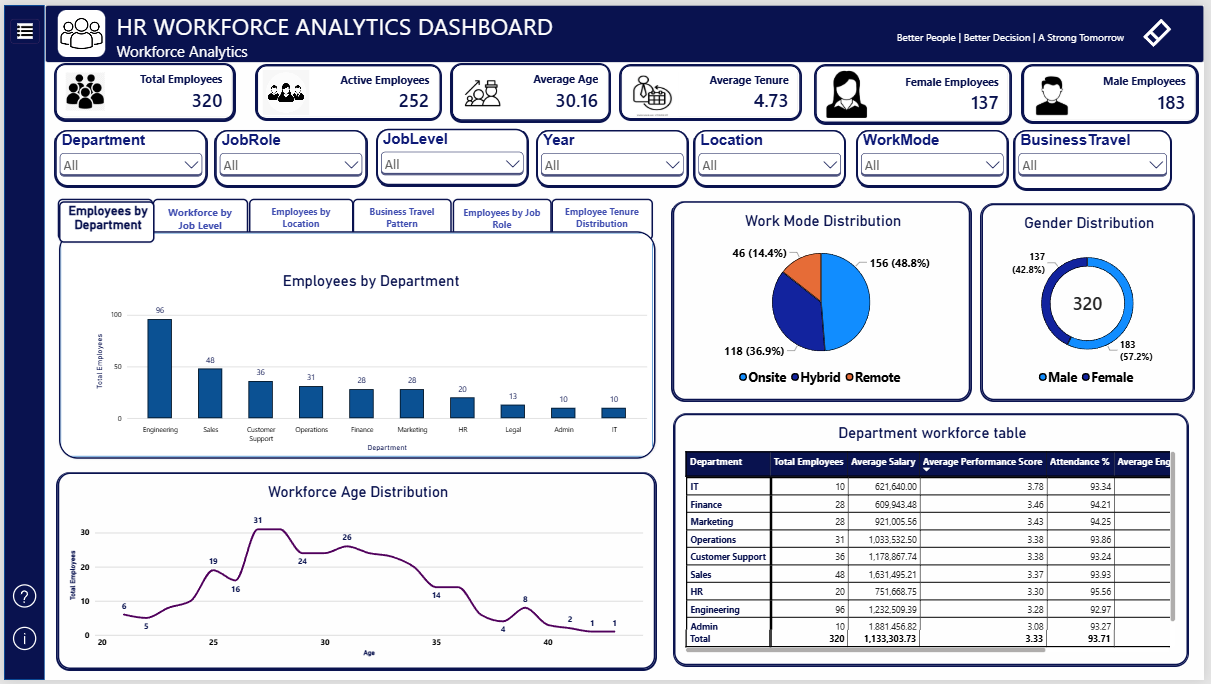

Layout of this report page (visuals, bound fields, positions):
{"tool":"powerbi","page":{"name":"Workforce Analytics","canvas":[1920,1080],"ordinal":1},"visuals":[{"type":"shape","title":"side corner layout","box":[0,0,65,1080],"z":0,"group":"g22"},{"type":"actionButton","title":"top nav bar","box":[66,0,1854,92],"z":0,"group":"g21"},{"type":"group","id":"g1","title":"tot emp","box":[82,94,286.9,89.3],"z":0,"group":"g2"},{"type":"group","id":"g2","title":"Group 2","box":[82,94,1828.5,95.3],"z":0,"group":"g19"},{"type":"cardVisual","fields":{"Data":["Measures (2).Total Employees"]},"box":[82,94,286.5,89.3],"z":0,"group":"g1"},{"type":"group","id":"g3","title":"Group 1","box":[716.7,94,253.9,91.3],"z":0,"group":"g10"},{"type":"cardVisual","fields":{"Data":["Measures (2).Average Age"]},"box":[716.7,94,253.9,91.3],"z":0,"group":"g3"},{"type":"group","id":"g4","title":"Group 1","box":[404.5,96,295.1,87.5],"z":0,"group":"g14"},{"type":"cardVisual","fields":{"Data":["Measures (2).Active Employees"]},"box":[404.5,96,295.1,87.5],"z":0,"group":"g4"},{"type":"cardVisual","fields":{"Data":["Measures (2).Female Employees"]},"box":[1298.2,96,312.6,93],"z":0,"group":"g5"},{"type":"group","id":"g5","title":"Group 1","box":[1298.2,96,312.6,93],"z":0,"group":"g12"},{"type":"group","id":"g6","title":"Group 1","box":[1630.5,96.3,279,91.8],"z":0,"group":"g7"},{"type":"cardVisual","fields":{"Data":["Measures (2).Male Employees"]},"box":[1630.5,96.3,279,91.8],"z":0,"group":"g6"},{"type":"group","id":"g7","title":"avg salary","box":[1630.5,96.3,280,93],"z":0,"group":"g16"},{"type":"group","id":"g8","title":"Group 1","box":[986.5,96.4,288.5,87.6],"z":0,"group":"g15"},{"type":"cardVisual","fields":{"Data":["Measures (2).Average Tenure"]},"box":[986.5,96.4,288.5,87.6],"z":0,"group":"g8"},{"type":"slicer","fields":{"Values":["DimEmployee.BusinessTravel"]},"box":[1617,200.9,252.4,95],"z":0,"group":"g20"},{"type":"group","id":"g9","title":"inactive button","box":[86,310,952.9,67.1],"z":0,"group":"g18"},{"type":"actionButton","box":[876,310,162.5,66.2],"z":0,"group":"g9"},{"type":"donutChart","title":"Gender Distribution","fields":{"Category":["DimEmployee.Gender"],"Y":["Measures (2).Total Employees"]},"box":[1564,318,340,314],"z":0,"group":"g17"},{"type":"shape","box":[88.1,361.5,954,364],"z":0,"group":"g11"},{"type":"image","title":"people icon","box":[85,7.5,76,75],"z":1000,"group":"g21"},{"type":"group","id":"g10","title":"tot hires","box":[716.7,94,253.9,91.3],"z":1000,"group":"g2"},{"type":"image","box":[1310.9,101.5,77.6,82.7],"z":1000,"group":"g12"},{"type":"image","box":[414.4,103.7,74.8,71.7],"z":1000,"group":"g14"},{"type":"image","box":[726.6,105,80.4,70.6],"z":1000,"group":"g10"},{"type":"image","box":[82,108.2,96.1,60.9],"z":1000,"group":"g1"},{"type":"image","box":[997.4,109,83.2,70.6],"z":1000,"group":"g15"},{"type":"slicer","fields":{"Values":["DimEmployee.JobLevel"]},"box":[596.2,198,242.7,90],"z":1000,"group":"g20"},{"type":"actionButton","box":[717.2,310,158.8,66.2],"z":1000,"group":"g9"},{"type":"group","id":"g11","title":"active button","box":[88.1,313.5,952.9,411.4],"z":1000,"group":"g18"},{"type":"pivotTable","title":"Department workforce table","fields":{"Rows":["DimEmployee.Department"],"Values":["Measures (2).Total Employees","Measures (2).Average Salary","Measures (2).Average Performance Score","Measures (2).Attendance %","Measures (2).Average Engagement Score","Measures (2).Attrition Rate"]},"box":[1072,654,822,402],"z":1000,"group":"g17"},{"type":"actionButton","title":"info","box":[7.5,985,50,50],"z":1000,"group":"g22"},{"type":"actionButton","title":"clear slicer","box":[1794,12,102,66],"z":1500,"group":"g21"},{"type":"textbox","box":[180,7.5,1220,85],"z":2000,"group":"g21"},{"type":"group","id":"g12","title":"attrition rate","box":[1298.2,96,312.6,93],"z":2000,"group":"g2"},{"type":"slicer","fields":{"Values":["DimEmployee.Location"]},"box":[1103.7,200.9,242.7,90],"z":2000,"group":"g20"},{"type":"actionButton","box":[558.5,310,158.8,66.2],"z":2000,"group":"g9"},{"type":"pieChart","title":"Work Mode Distribution","fields":{"Category":["DimEmployee.WorkMode"],"Y":["Measures (2).Total Employees"]},"box":[1070,314,476,318],"z":2000,"group":"g17"},{"type":"group","id":"g13","title":"chart","box":[94.1,371.2,953.7,357.2],"z":2000,"group":"g18"},{"type":"actionButton","title":"help","box":[7.5,917.5,50,50],"z":2000,"group":"g22"},{"type":"textbox","box":[1306,22,486,62],"z":2500,"group":"g21"},{"type":"actionButton","title":"menu Button","box":[10,22.5,47.5,40],"z":3000,"group":"g22"},{"type":"group","id":"g14","title":"active emp","box":[404.5,96,295.1,87.5],"z":3000,"group":"g2"},{"type":"slicer","fields":{"Values":["DimEmployee.WorkMode"]},"box":[1363,199.4,242.7,90],"z":3000,"group":"g20"},{"type":"actionButton","box":[391,310,167.5,66.2],"z":3000,"group":"g9"},{"type":"lineChart","title":"Workforce Age Distribution","fields":{"Category":["DimEmployee.Age"],"Y":["Measures (2).Total Employees"]},"box":[86,748,956,314],"z":3000,"group":"g17"},{"type":"group","id":"g15","title":"tot exits","box":[986.5,96.4,288.5,87.6],"z":4000,"group":"g2"},{"type":"slicer","fields":{"Values":["DimEmployee.Department"]},"box":[82,200.2,242.7,90],"z":4000,"group":"g20"},{"type":"actionButton","box":[238.5,310,152.5,66.2],"z":4000,"group":"g9"},{"type":"group","id":"g16","title":"avg sal","box":[1630.5,96.3,280,93],"z":5000,"group":"g2"},{"type":"slicer","fields":{"Values":["DimEmployee.JobRole"]},"box":[338.3,199.4,242.7,90],"z":5000,"group":"g20"},{"type":"actionButton","box":[86,310,152.5,66.2],"z":5000,"group":"g9"},{"type":"group","id":"g17","title":"Group 5","box":[86,314,1818,748],"z":5000},{"type":"clusteredColumnChart","title":"Employees by Department","fields":{"Category":["DimEmployee.Department"],"Y":["Measures (2).Total Employees"]},"box":[129.2,411.2,914.9,317.2],"z":5000,"group":"g13"},{"type":"image","box":[1649.5,101.5,55,87.5],"z":6000,"group":"g2"},{"type":"slicer","fields":{"Values":["DimDate.Year"]},"box":[851.4,199.4,242.7,90],"z":6000,"group":"g20"},{"type":"group","id":"g18","title":"charts","box":[86,310,962,420],"z":6000},{"type":"actionButton","title":"Employees by Department","box":[88.1,313.5,152.5,66.2],"z":6000,"group":"g11"},{"type":"group","id":"g19","title":"Group 3","box":[82,94,1830,96],"z":6031},{"type":"group","id":"g20","title":"slicers","box":[82,198,1786,98],"z":6062},{"type":"group","id":"g21","title":"top nav bar","box":[66,0,1854,92.5],"z":6156},{"type":"group","id":"g22","title":"menu bar","box":[0,0,65,1080],"z":7001}]}

Visuals, with their boxes in screenshot pixels (x1, y1, x2, y2), scaled from the page's 1920x1080 canvas onto the 1211x684 screenshot:
"side corner layout" shape: <region>0, 0, 41, 683</region>
"top nav bar" actionButton: <region>42, 0, 1210, 58</region>
"tot emp" group: <region>52, 60, 233, 116</region>
"Group 2" group: <region>52, 60, 1205, 120</region>
cardVisual - Measures (2).Total Employees: <region>52, 60, 232, 116</region>
"Group 1" group: <region>452, 60, 612, 117</region>
cardVisual - Measures (2).Average Age: <region>452, 60, 612, 117</region>
"Group 1" group: <region>255, 61, 441, 116</region>
cardVisual - Measures (2).Active Employees: <region>255, 61, 441, 116</region>
cardVisual - Measures (2).Female Employees: <region>819, 61, 1016, 120</region>
"Group 1" group: <region>819, 61, 1016, 120</region>
"Group 1" group: <region>1028, 61, 1204, 119</region>
cardVisual - Measures (2).Male Employees: <region>1028, 61, 1204, 119</region>
"avg salary" group: <region>1028, 61, 1205, 120</region>
"Group 1" group: <region>622, 61, 804, 117</region>
cardVisual - Measures (2).Average Tenure: <region>622, 61, 804, 117</region>
slicer - DimEmployee.BusinessTravel: <region>1020, 127, 1179, 187</region>
"inactive button" group: <region>54, 196, 655, 239</region>
actionButton: <region>553, 196, 655, 238</region>
"Gender Distribution" donutChart: <region>986, 201, 1201, 400</region>
shape: <region>56, 229, 657, 459</region>
"people icon" image: <region>54, 5, 102, 52</region>
"tot hires" group: <region>452, 60, 612, 117</region>
image: <region>827, 64, 876, 117</region>
image: <region>261, 66, 309, 111</region>
image: <region>458, 66, 509, 111</region>
image: <region>52, 69, 112, 107</region>
image: <region>629, 69, 682, 114</region>
slicer - DimEmployee.JobLevel: <region>376, 125, 529, 182</region>
actionButton: <region>452, 196, 553, 238</region>
"active button" group: <region>56, 199, 657, 459</region>
"Department workforce table" pivotTable: <region>676, 414, 1195, 669</region>
"info" actionButton: <region>5, 624, 36, 656</region>
"clear slicer" actionButton: <region>1132, 8, 1196, 49</region>
textbox: <region>114, 5, 883, 59</region>
"attrition rate" group: <region>819, 61, 1016, 120</region>
slicer - DimEmployee.Location: <region>696, 127, 849, 184</region>
actionButton: <region>352, 196, 452, 238</region>
"Work Mode Distribution" pieChart: <region>675, 199, 975, 400</region>
"chart" group: <region>59, 235, 661, 461</region>
"help" actionButton: <region>5, 581, 36, 613</region>
textbox: <region>824, 14, 1130, 53</region>
"menu Button" actionButton: <region>6, 14, 36, 40</region>
"active emp" group: <region>255, 61, 441, 116</region>
slicer - DimEmployee.WorkMode: <region>860, 126, 1013, 183</region>
actionButton: <region>247, 196, 352, 238</region>
"Workforce Age Distribution" lineChart: <region>54, 474, 657, 673</region>
"tot exits" group: <region>622, 61, 804, 117</region>
slicer - DimEmployee.Department: <region>52, 127, 205, 184</region>
actionButton: <region>150, 196, 247, 238</region>
"avg sal" group: <region>1028, 61, 1205, 120</region>
slicer - DimEmployee.JobRole: <region>213, 126, 366, 183</region>
actionButton: <region>54, 196, 150, 238</region>
"Group 5" group: <region>54, 199, 1201, 673</region>
"Employees by Department" clusteredColumnChart: <region>81, 260, 659, 461</region>
image: <region>1040, 64, 1075, 120</region>
slicer - DimDate.Year: <region>537, 126, 690, 183</region>
"charts" group: <region>54, 196, 661, 462</region>
"Employees by Department" actionButton: <region>56, 199, 152, 240</region>
"Group 3" group: <region>52, 60, 1206, 120</region>
"slicers" group: <region>52, 125, 1178, 187</region>
"top nav bar" group: <region>42, 0, 1210, 59</region>
"menu bar" group: <region>0, 0, 41, 683</region>
